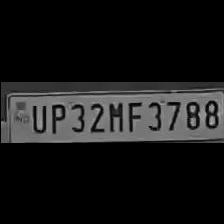2: (85, 97, 105, 132)
3: (66, 98, 86, 132), (144, 97, 162, 131)
7: (163, 96, 181, 132)
8: (201, 95, 221, 129), (182, 96, 200, 130)
F: (124, 97, 142, 131)
M: (104, 97, 124, 132)
P: (45, 99, 65, 133)
U: (28, 100, 46, 132)
